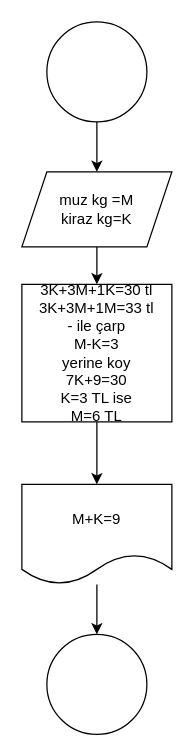
Image size: 194x756. Some labels were removed from this diagram. Here are the shapes that lost their labels. From the top down, the centre of each, then its label:
At point 96,71: "BAŞLA".
At point 96,683: "DUR".
